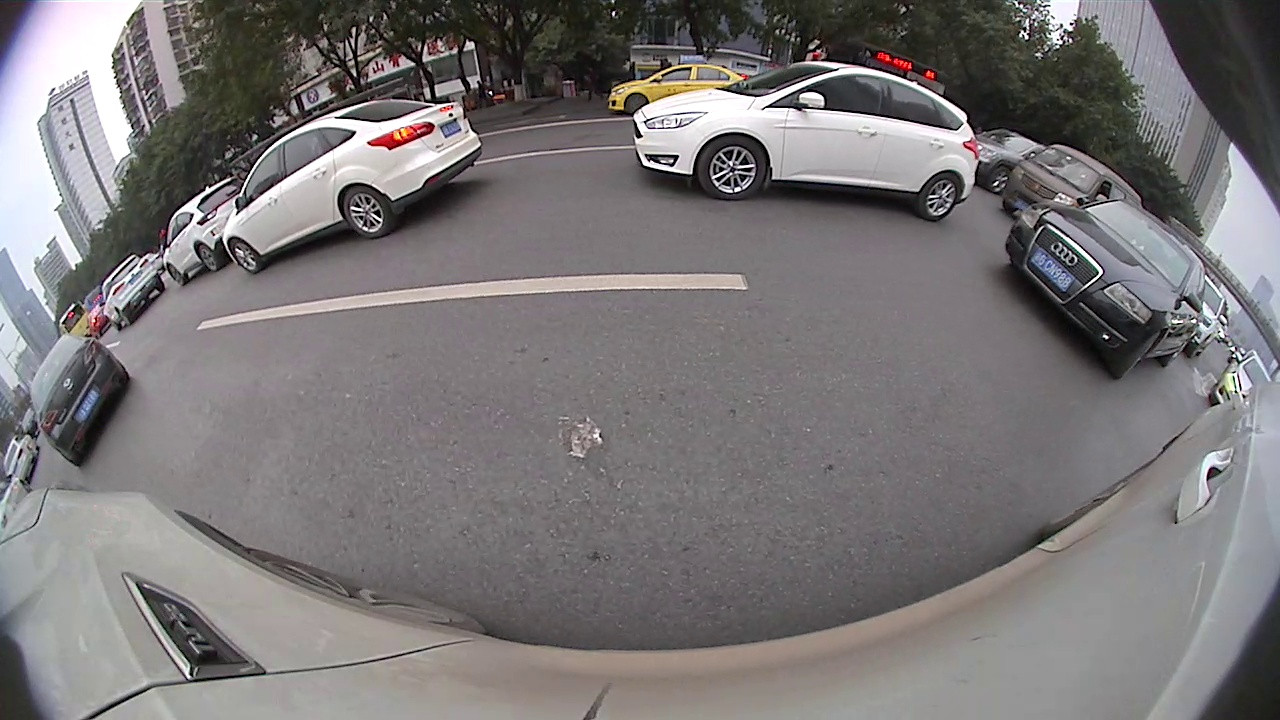car: (630, 59, 984, 223), (202, 96, 484, 278), (1002, 196, 1205, 382), (26, 335, 134, 469), (1006, 143, 1146, 227), (161, 180, 248, 288), (607, 62, 761, 115), (965, 127, 1037, 196), (99, 253, 163, 329), (2, 431, 40, 482)
front: (698, 135, 768, 198), (229, 237, 262, 275), (987, 165, 1011, 194), (624, 93, 649, 116)
rear: (341, 185, 392, 238), (917, 171, 962, 223), (198, 245, 219, 272)
